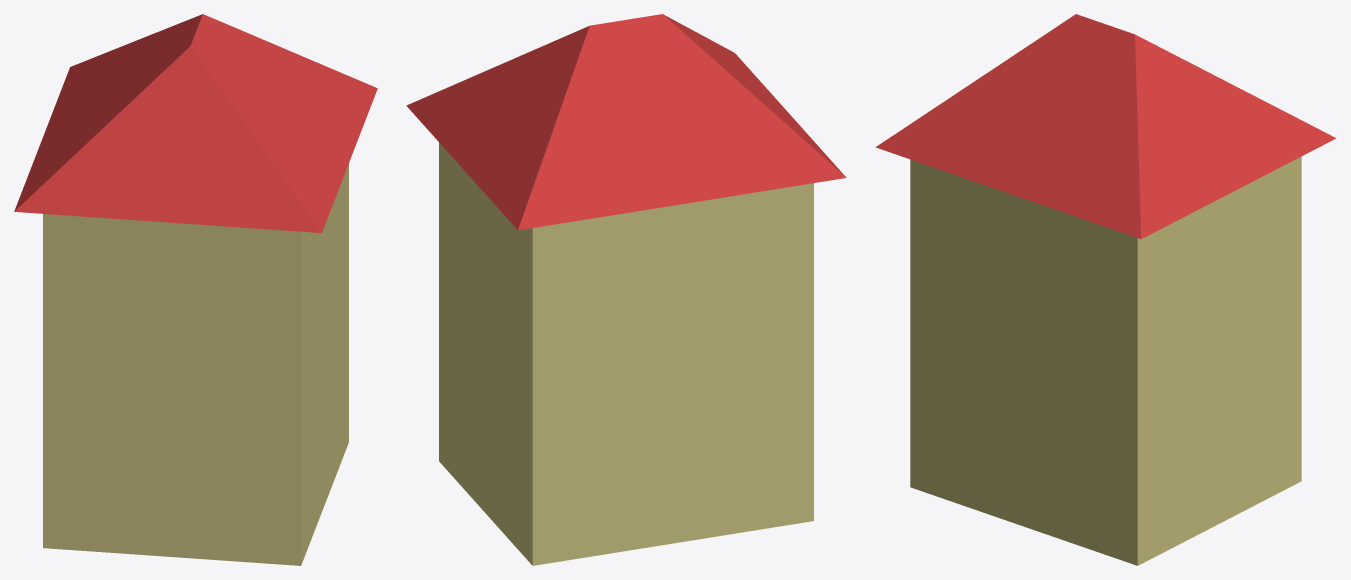
3 views of the same model, side by side, from view 1: azimuth 30°, elevation 25°; view 2: azimuth 150°, elevation 25°; view 3: azimuth 270°, elevation 25° (orthographic). The views are drawn at different scales.
Visible parts, largest first — view 1: group_5, group_3, group_4; view 2: group_5, group_3, group_4; view 3: group_5, group_3, group_4.
Boxes of the visible parts, x1,y1,x2,y2 form: group_5: [43, 163, 348, 565]; group_3: [14, 14, 377, 232]; group_4: [14, 57, 373, 211]; group_5: [439, 142, 813, 565]; group_3: [407, 14, 845, 230]; group_4: [406, 91, 846, 229]; group_5: [910, 156, 1301, 565]; group_3: [875, 14, 1336, 239]; group_4: [1138, 137, 1263, 238].
Bounding box in the file's own units: 13.77 × 13.92 × 15.33.
